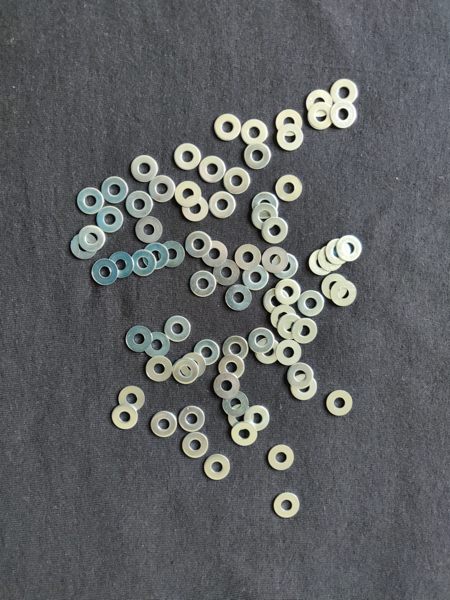circle: (325, 387, 355, 420), (272, 492, 302, 522), (203, 453, 235, 481), (276, 174, 305, 204), (134, 216, 163, 246), (178, 404, 206, 435), (183, 431, 212, 460), (118, 383, 146, 413), (271, 252, 301, 280), (267, 443, 294, 474), (229, 421, 260, 448), (328, 101, 359, 128), (285, 361, 314, 389), (235, 243, 263, 272), (201, 239, 229, 268), (158, 239, 186, 268), (100, 175, 129, 203), (262, 288, 292, 315), (263, 216, 290, 246), (251, 191, 281, 218), (213, 113, 240, 143), (110, 403, 138, 431), (143, 332, 171, 360), (193, 339, 221, 367), (184, 231, 212, 259), (70, 233, 98, 261), (76, 187, 104, 215), (127, 191, 155, 219), (130, 154, 158, 182), (148, 175, 176, 203), (223, 167, 251, 195), (242, 405, 271, 432), (125, 325, 152, 354), (308, 246, 335, 275), (214, 259, 241, 288), (143, 242, 170, 271), (182, 195, 211, 222), (244, 143, 273, 170), (241, 119, 268, 148), (305, 90, 334, 117), (330, 78, 359, 105), (92, 256, 117, 287), (150, 411, 178, 438), (222, 391, 250, 418), (221, 335, 248, 363), (291, 375, 318, 403), (277, 313, 305, 340), (146, 356, 174, 383), (164, 316, 192, 343), (225, 285, 252, 313), (242, 264, 269, 292), (78, 226, 106, 253), (277, 124, 304, 152), (275, 109, 302, 137), (108, 251, 134, 280), (320, 275, 350, 300), (327, 235, 352, 265), (226, 404, 253, 431), (332, 281, 359, 308), (209, 192, 236, 219), (175, 142, 202, 169), (276, 339, 302, 367), (262, 247, 290, 273), (252, 205, 280, 231), (98, 206, 124, 234), (307, 102, 333, 130), (213, 374, 240, 400), (218, 355, 245, 381), (256, 339, 282, 366), (276, 278, 302, 305), (190, 272, 216, 299), (200, 155, 227, 181), (338, 234, 363, 262), (129, 249, 154, 277), (177, 181, 202, 209), (248, 328, 274, 354), (271, 305, 297, 331), (298, 291, 324, 317), (174, 359, 199, 385), (181, 352, 206, 378), (318, 246, 342, 273), (294, 318, 318, 344)
